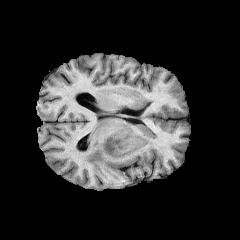glioma: (83, 123, 128, 172)
